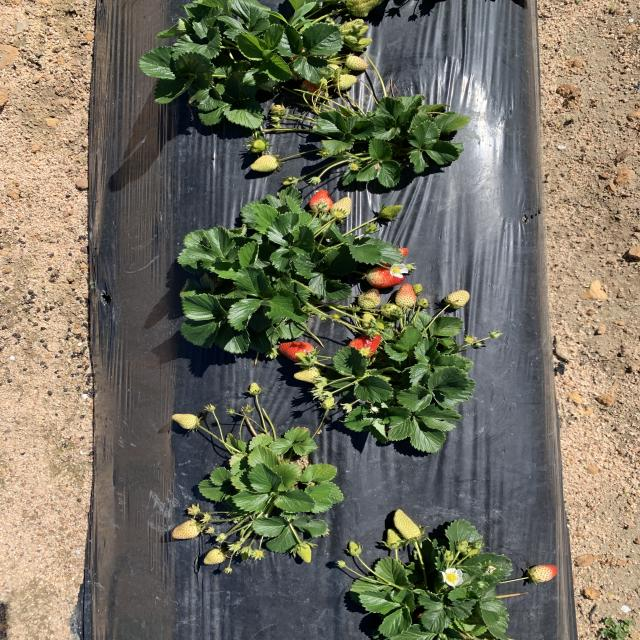unripe: (345, 332, 382, 360), (280, 341, 322, 363), (366, 269, 406, 287), (376, 247, 408, 265), (311, 188, 333, 211)
